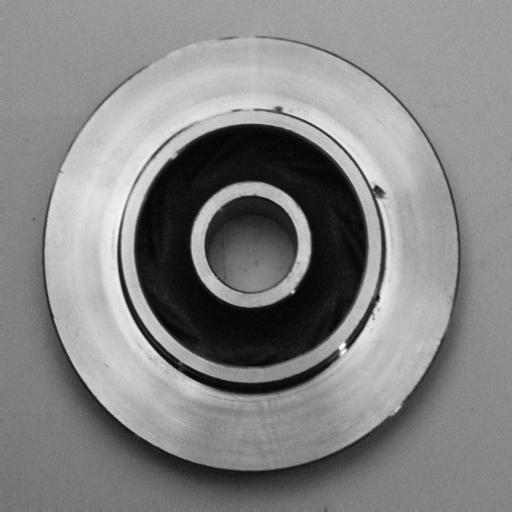crack: (249, 95, 302, 125), (365, 170, 393, 216)
scratch: (169, 100, 250, 133), (329, 316, 375, 367)
unpolished_casting: (40, 35, 462, 479)
